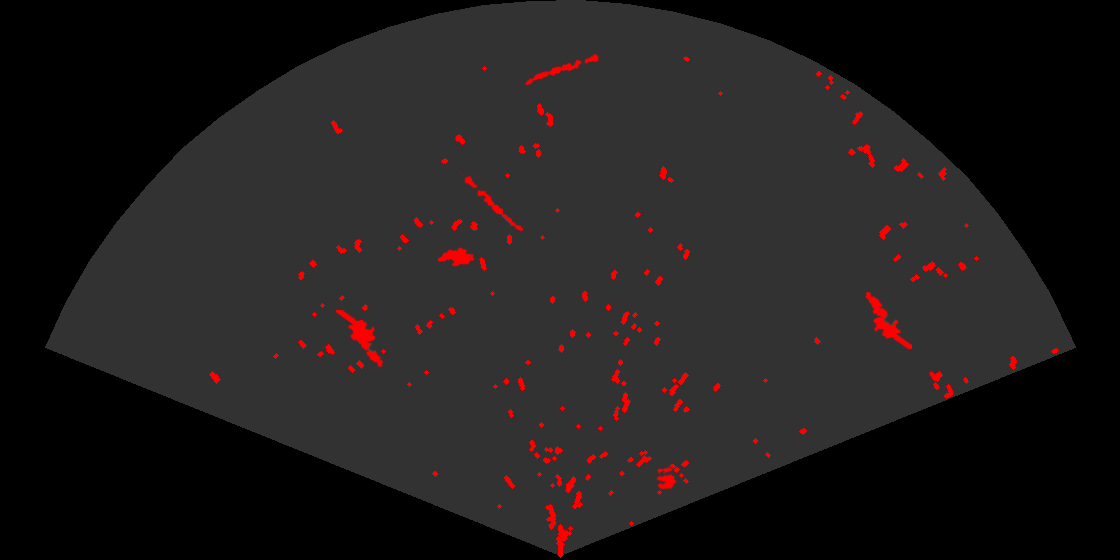AUV: (435, 246, 476, 268)
ball: (655, 466, 678, 491)
chain: (456, 170, 525, 233), (523, 52, 601, 87)
frogman: (336, 310, 385, 369), (864, 290, 912, 349)
